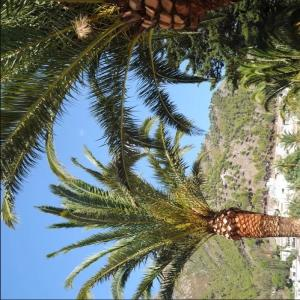palm tree: (33, 115, 299, 299)
